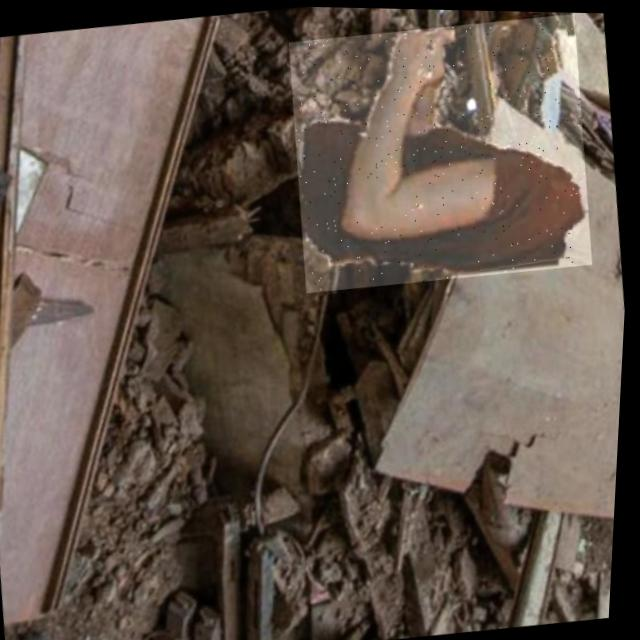Person in Rubble: (277, 6, 604, 297)
